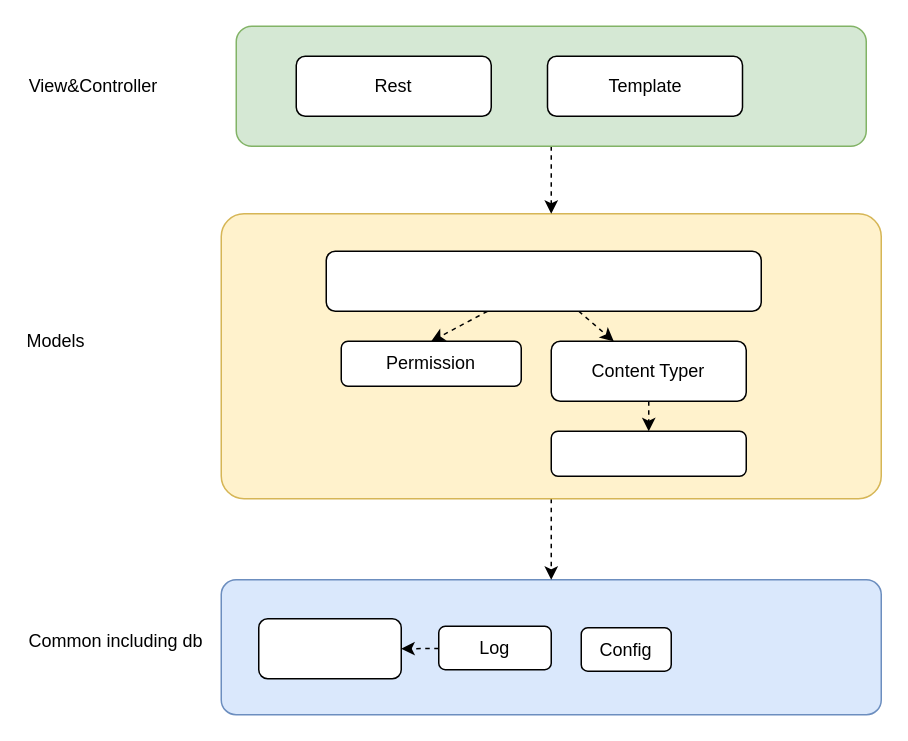
The diagram is 908 pixels wide and 741 high, and some of its shapes have lost their labels. Each missing label, with the box of its shape:
Content Handler: (325, 250, 761, 311)
DB: (257, 617, 401, 679)
Fielder: (550, 430, 746, 476)
